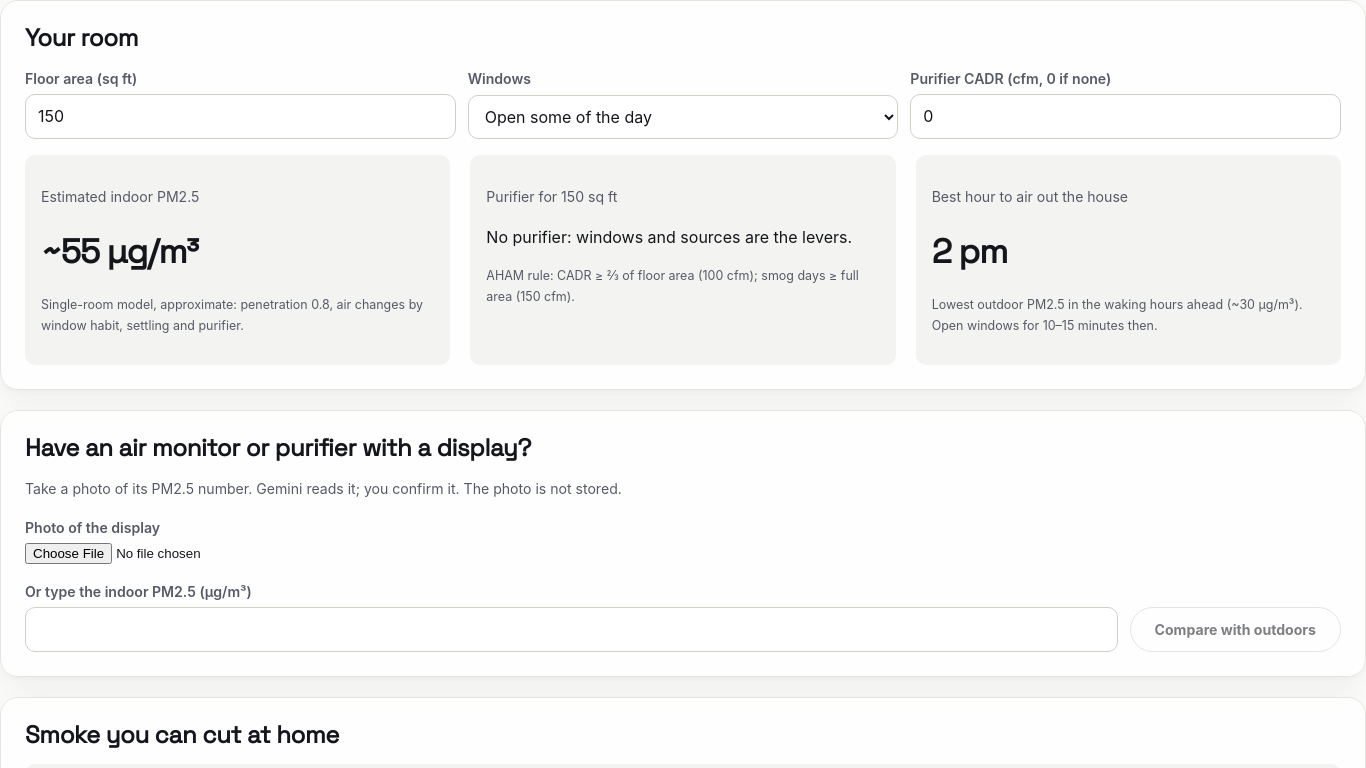
Test: HomeView › re-estimates for area and window habit
The width and height of the screenshot is (1366, 768).
Select "Open most of the day" in the dropdown labelled "Windows": {"x": 683, "y": 116} [468, 94, 898, 138]
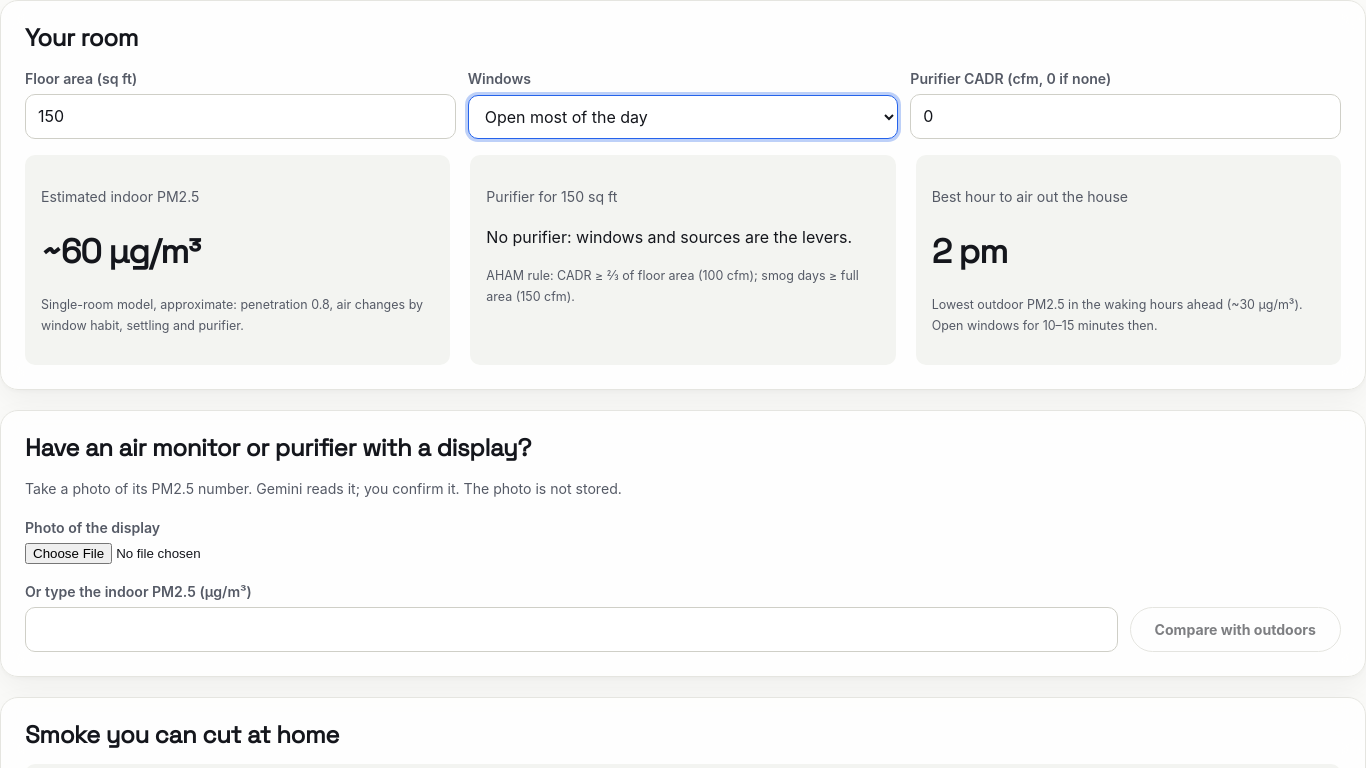
Replace the text in the number field labelled "Floor area (sq ft)" with "300": {"x": 240, "y": 116} [25, 94, 456, 138]
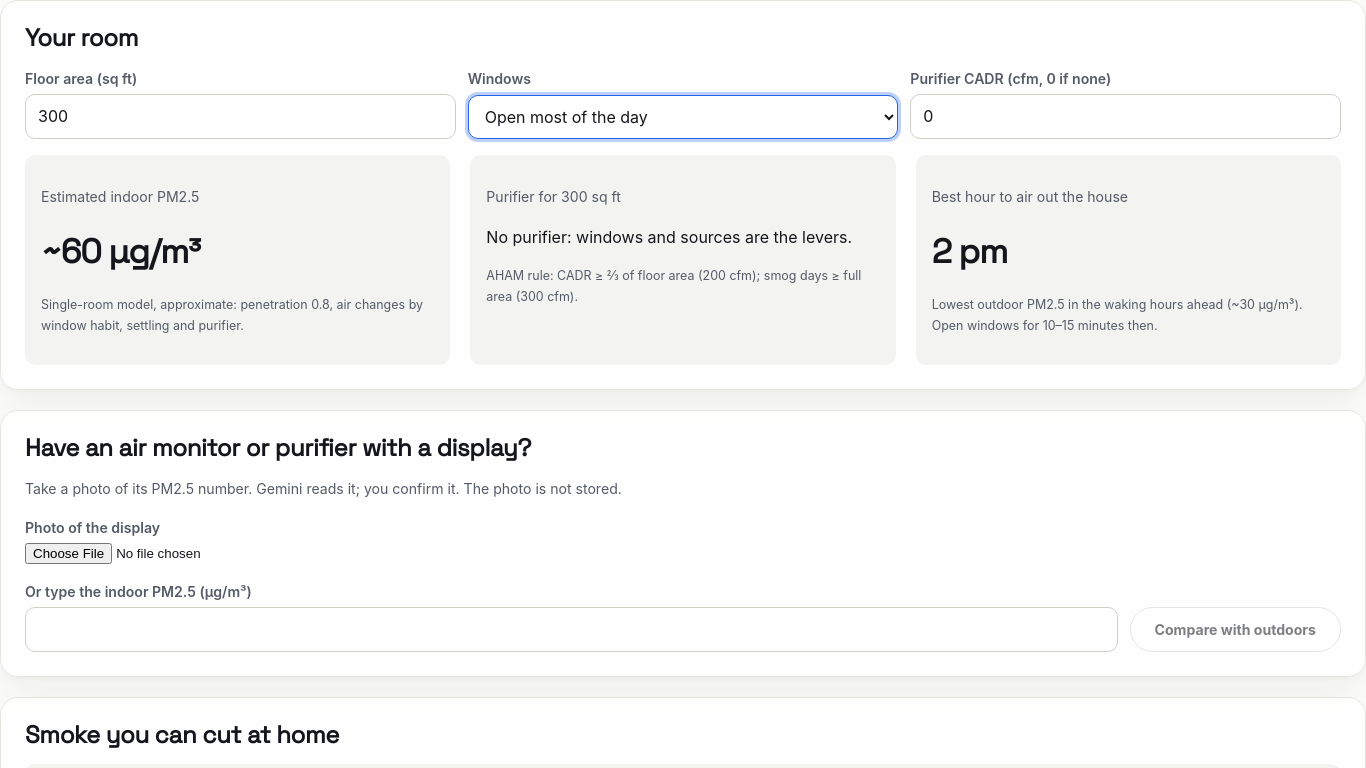
Now the text "Purifier for 300 sq ft" is shown, box [486, 188, 621, 205]
